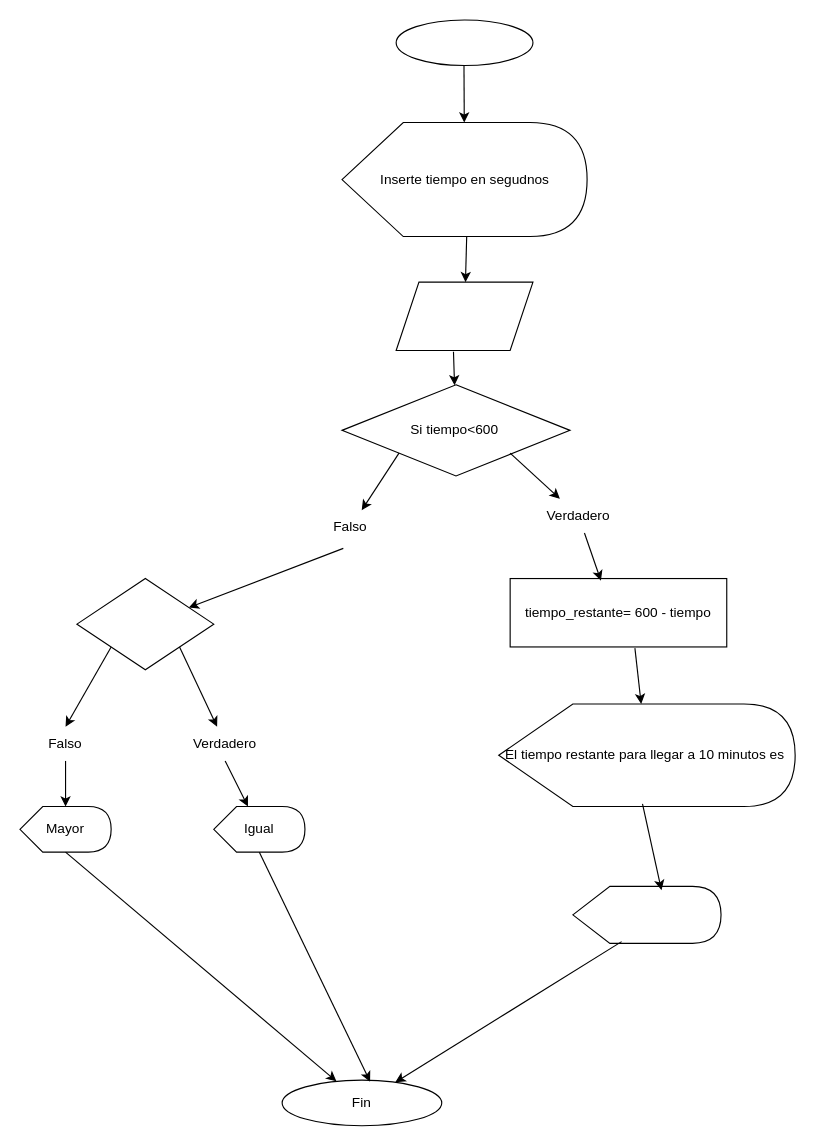
The diagram is 815 pixels wide and 1146 high, and some of its shapes have lost their labels. The centre of each missing label's shape, as x and y in pixels:
"Inicio" goes at [464,42].
"Si tiempo == 600" goes at [145,623].
"tiempo" goes at [464,316].
"tiempo_restante" goes at [646,914].
